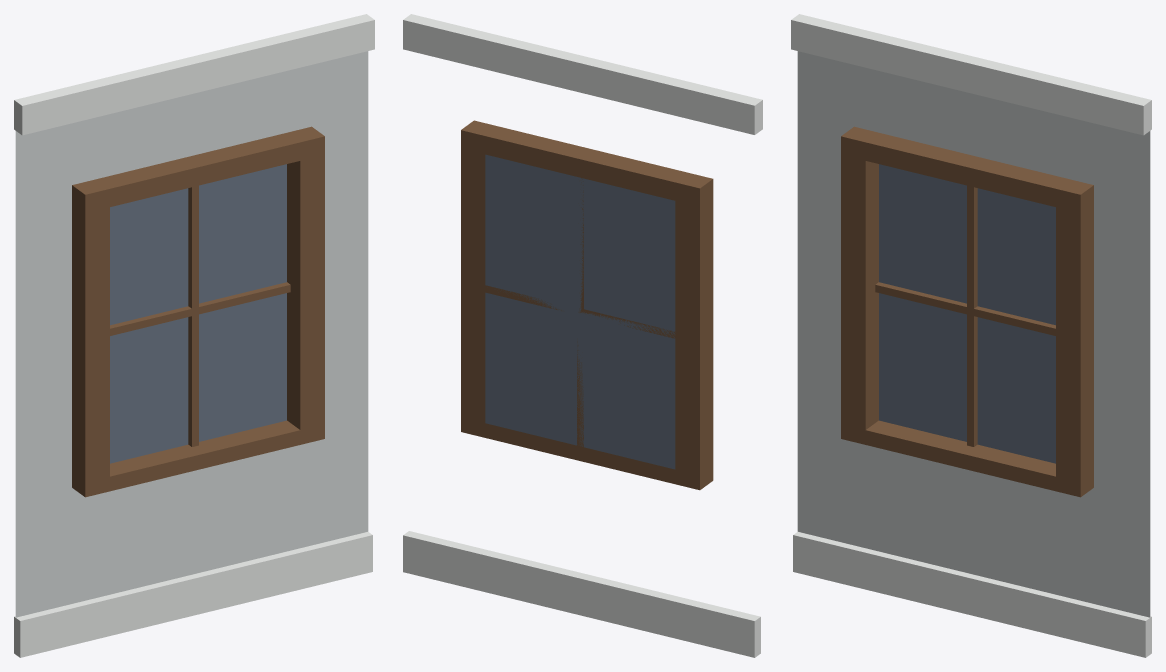
The model's file is Window.glb.
3 renders of one model, left to right at view 1: azimuth 30°, elevation 25°; view 2: azimuth 150°, elevation 25°; view 3: azimuth 330°, elevation 25°, orthographic.
Visible parts, largest first — view 1: PBK_Modern_Window_Exterior_Surface.001, PBK_glass.001, PBK_Continuous_Frame_Modern_Window.003, PBK_base_trim.001, PBK_floor_band.048, PBK_Modern_Window_Balanced_Window_Cross.001; view 2: PBK_glass.001, PBK_Continuous_Frame_Modern_Window.003, PBK_base_trim.001, PBK_floor_band.048, PBK_Modern_Window_Balanced_Window_Cross.001; view 3: PBK_Modern_Window_Exterior_Surface.001, PBK_glass.001, PBK_Continuous_Frame_Modern_Window.003, PBK_base_trim.001, PBK_floor_band.048, PBK_Modern_Window_Balanced_Window_Cross.001.
Boxes of the visible parts, x1,y1,x2,y2 form: PBK_Modern_Window_Exterior_Surface.001: [15, 51, 368, 617]; PBK_glass.001: [110, 164, 286, 463]; PBK_Continuous_Frame_Modern_Window.003: [72, 126, 324, 497]; PBK_base_trim.001: [14, 532, 372, 657]; PBK_floor_band.048: [14, 14, 374, 135]; PBK_Modern_Window_Balanced_Window_Cross.001: [110, 185, 290, 446]; PBK_glass.001: [485, 154, 675, 469]; PBK_Continuous_Frame_Modern_Window.003: [461, 120, 713, 490]; PBK_base_trim.001: [403, 531, 760, 657]; PBK_floor_band.048: [403, 14, 762, 134]; PBK_Modern_Window_Balanced_Window_Cross.001: [485, 178, 675, 447]; PBK_Modern_Window_Exterior_Surface.001: [797, 51, 1150, 617]; PBK_glass.001: [879, 164, 1055, 463]; PBK_Continuous_Frame_Modern_Window.003: [841, 126, 1093, 497]; PBK_base_trim.001: [793, 532, 1151, 657]; PBK_floor_band.048: [791, 14, 1151, 135]; PBK_Modern_Window_Balanced_Window_Cross.001: [875, 185, 1055, 446].
Bounding box in the file's own units: 2 × 3 × 0.145.
